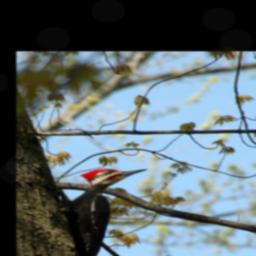Woodpecker: (57, 166, 152, 256)
